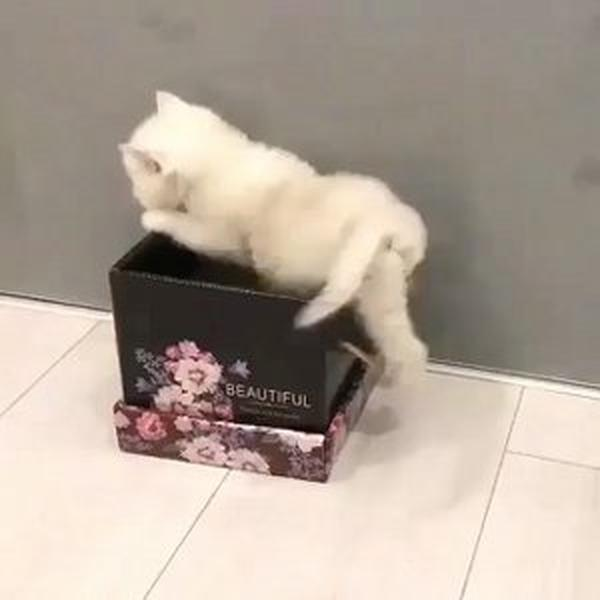michi: (113, 83, 437, 404)
